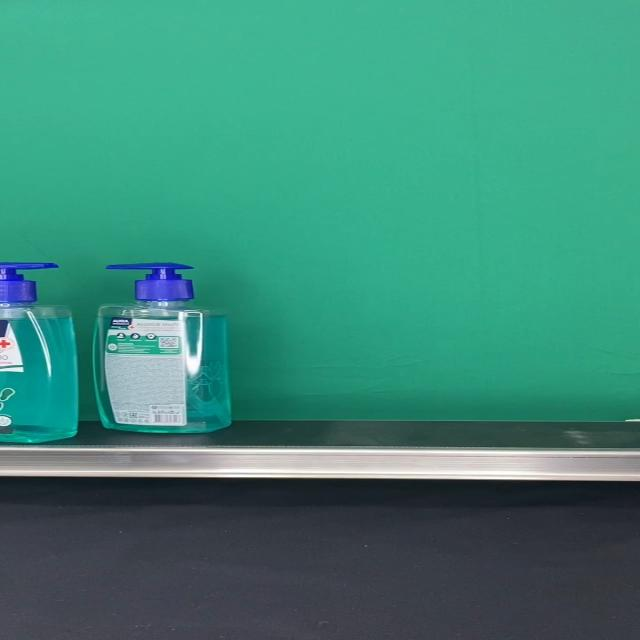Bottle: (94, 262, 232, 432)
Cap: (106, 262, 196, 302)
